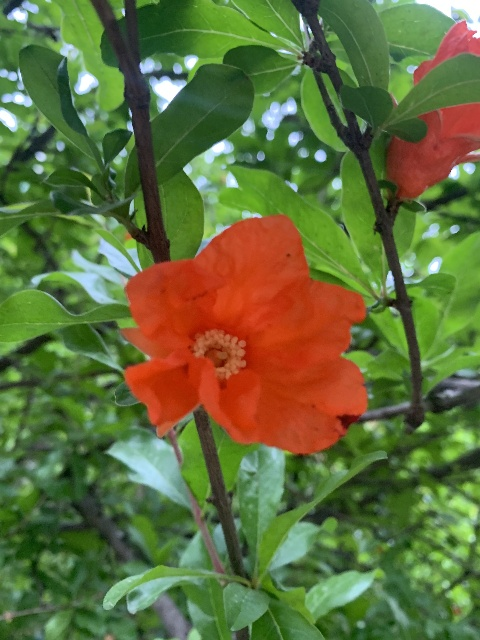flower: (119, 214, 370, 456), (386, 21, 480, 202)
